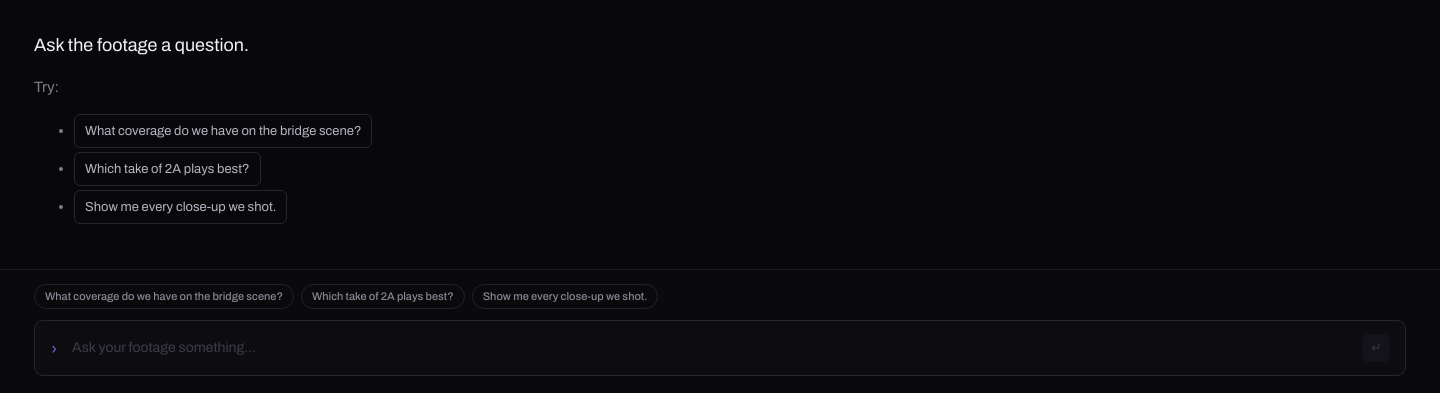
SessionView › Enter sends the typed question and renders the streamed agent reply
Type "What coverage do we have?" into the text box labelled "Ask your footage something" at (710, 348), box [70,336,1350,360]
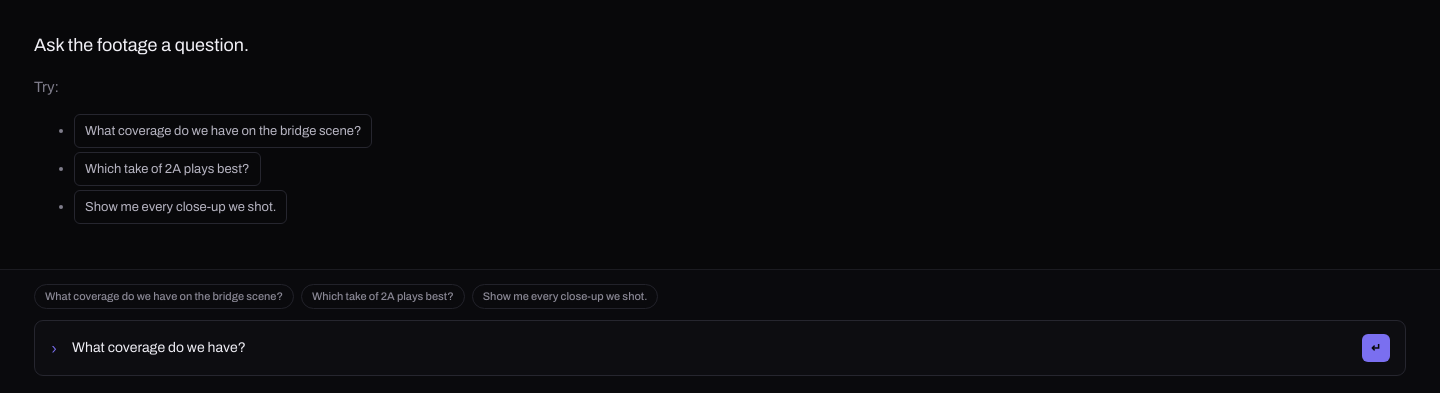
Press Enter in the text box named "Ask your footage something", box [70,336,1350,360]
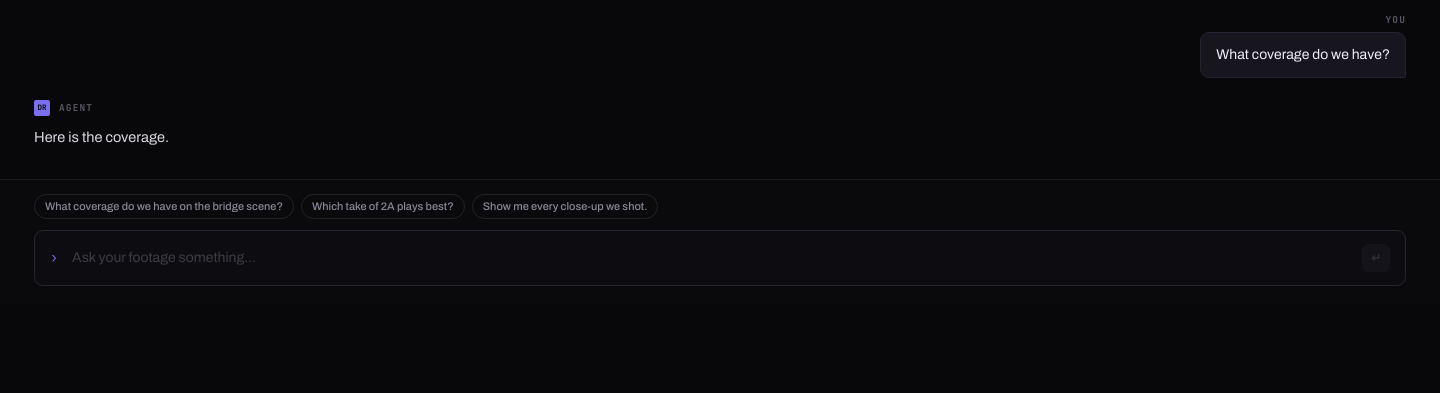
Expected: the text "What coverage do we have?" is shown, [1200,32,1406,78]
Expected: the text "Here is the coverage." is shown, [34,129,169,145]
